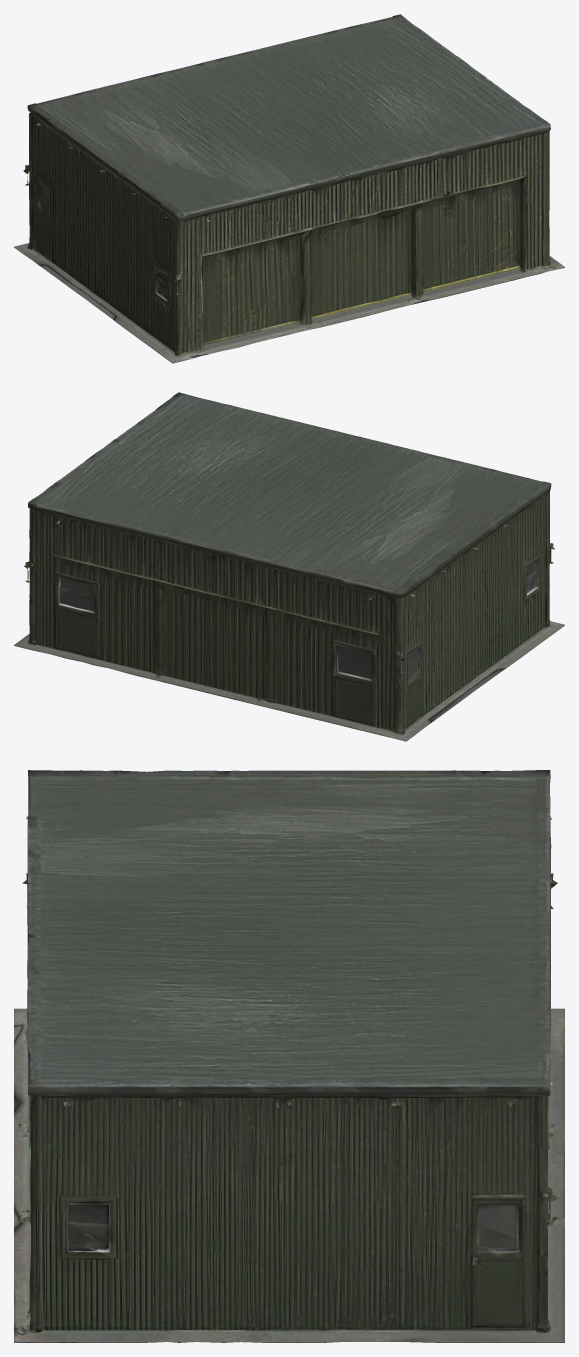
File: quartel-hangar.glb
The picture shows the model from 3 angles, top to bottom: view 1: azimuth 30°, elevation 25°; view 2: azimuth 150°, elevation 25°; view 3: azimuth 270°, elevation 25°; orthographic projection. The views are drawn at different scales.
Visible parts, largest first — view 1: tripo_node_6655eddd-683f-499a-9515-f29d6c4034ae; view 2: tripo_node_6655eddd-683f-499a-9515-f29d6c4034ae; view 3: tripo_node_6655eddd-683f-499a-9515-f29d6c4034ae.
Boxes of the visible parts, x1=… form: tripo_node_6655eddd-683f-499a-9515-f29d6c4034ae: x1=14, y1=14, x2=564, y2=363; tripo_node_6655eddd-683f-499a-9515-f29d6c4034ae: x1=14, y1=392, x2=564, y2=741; tripo_node_6655eddd-683f-499a-9515-f29d6c4034ae: x1=14, y1=770, x2=564, y2=1342.
Size of the model in its own units: 20 by 7 by 14.
Materials: 1 (1 with a texture image).
